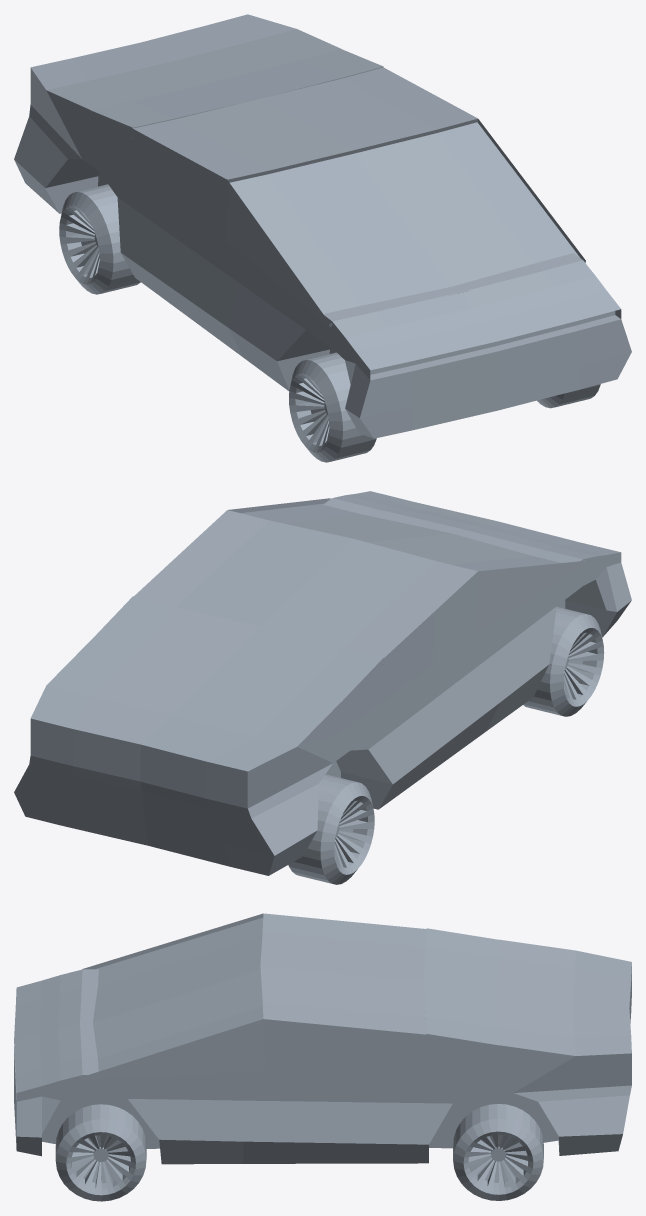
File: ModelCybertruckLowPoly.fbx
The picture shows the model from 3 angles, top to bottom: view 1: azimuth 30°, elevation 25°; view 2: azimuth 150°, elevation 25°; view 3: azimuth 270°, elevation 25°; orthographic projection. The views are drawn at different scales.
Parts seen in each view (by area): view 1: truckBody, wheelFrontRight, wheelRearRight, wheelFrontLeft; view 2: truckBody, wheelRearRight, wheelFrontRight; view 3: truckBody, wheelFrontLeft, wheelRearLeft.
Part boxes in pixels (x1,y1,x2,y2): truckBody: [14, 14, 631, 438]; wheelFrontRight: [289, 352, 376, 462]; wheelRearRight: [59, 184, 140, 294]; wheelFrontLeft: [537, 384, 600, 408]; truckBody: [14, 491, 631, 875]; wheelRearRight: [288, 774, 374, 884]; wheelFrontRight: [523, 607, 604, 716]; truckBody: [14, 913, 631, 1164]; wheelFrontLeft: [55, 1104, 146, 1201]; wheelRearLeft: [453, 1104, 543, 1200].
Bounding box in the file's own units: 2.09 × 1.52 × 4.71.
